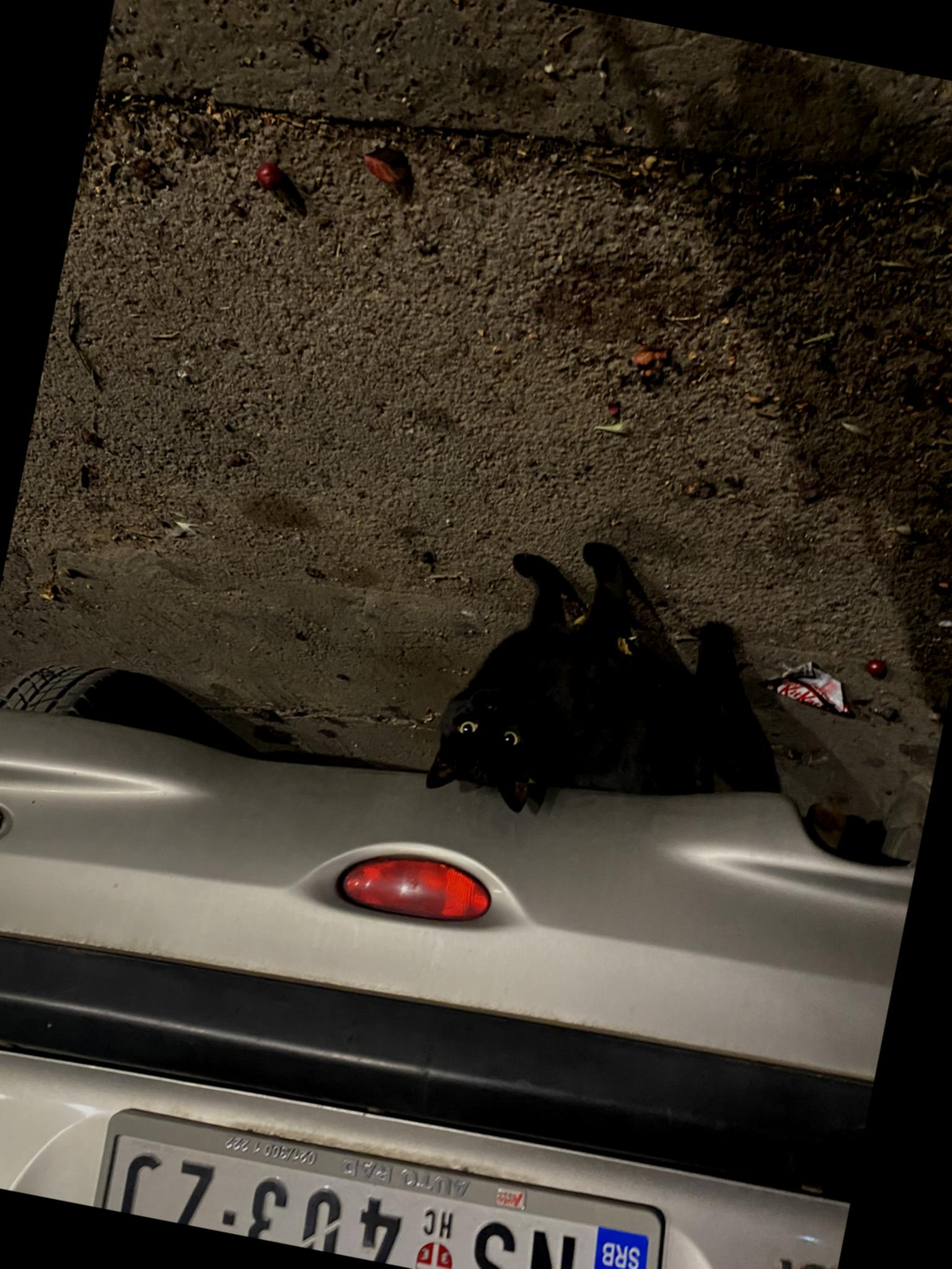macka: (420, 520, 753, 850)
